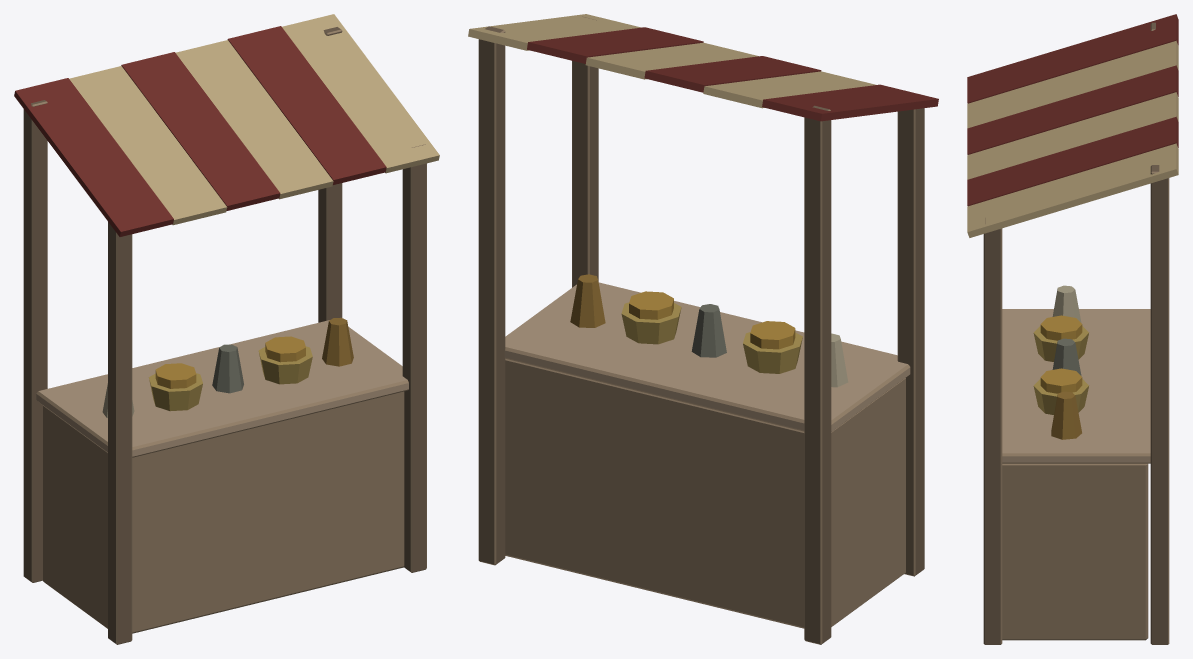
The model's file is market_stall.glb.
The picture shows the model from 3 angles, left to right: view 1: azimuth 30°, elevation 25°; view 2: azimuth 150°, elevation 25°; view 3: azimuth 270°, elevation 25°; orthographic projection. The views are drawn at different scales.
Parts seen in each view (by area): view 1: Market_Stall; view 2: Market_Stall; view 3: Market_Stall.
Part boxes in pixels (bbox=[...]): Market_Stall: bbox=[14, 14, 439, 644]; Market_Stall: bbox=[468, 14, 938, 644]; Market_Stall: bbox=[967, 14, 1178, 644].
Size of the model in its own units: 1.57 by 2.28 by 0.9107.
